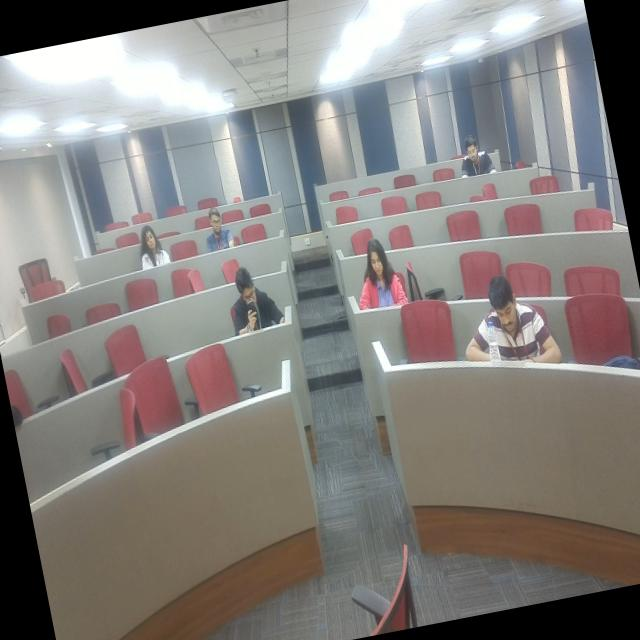cheating: (218, 257, 290, 341)
